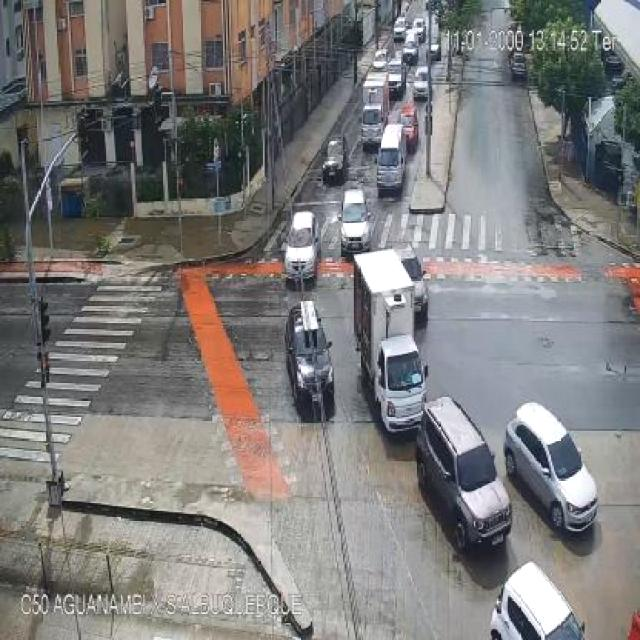Car: (417, 400, 511, 549), (506, 404, 600, 532), (284, 302, 336, 416), (284, 211, 320, 284), (398, 245, 429, 318), (338, 188, 371, 254), (322, 136, 347, 184), (386, 57, 407, 95), (413, 65, 430, 98), (402, 32, 419, 63), (509, 53, 527, 80), (393, 17, 407, 41), (373, 48, 388, 70), (412, 17, 426, 40)
Truck: (352, 251, 429, 439), (360, 73, 387, 147)
Van: (375, 123, 407, 193)
